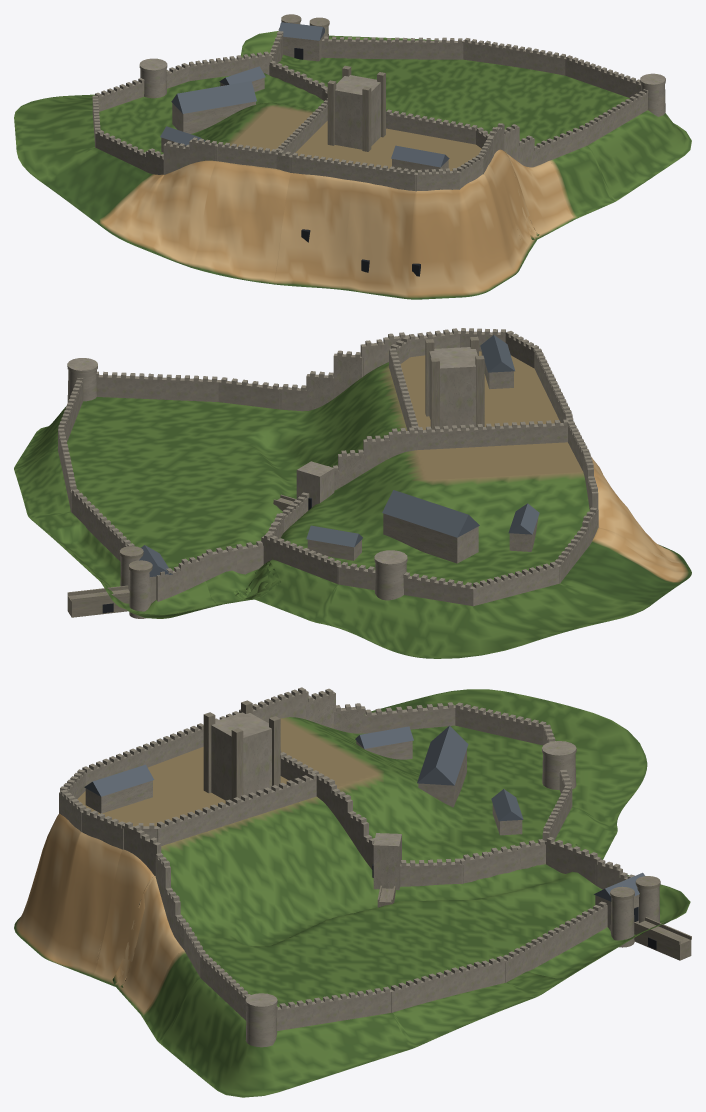
File: nottingham-castle-b30.glb
3 renders of one model, top to bottom at view 1: azimuth 30°, elevation 25°; view 2: azimuth 150°, elevation 25°; view 3: azimuth 270°, elevation 25°, orthographic. The views are drawn at different scales.
Size of the model in its own units: 25.6 by 6.63 by 20.96.
Materials: 5 (2 with a texture image).
